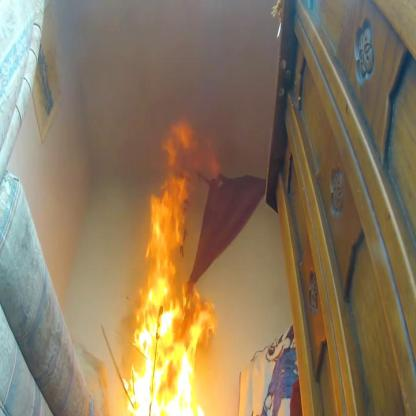fire: (124, 110, 224, 416)
